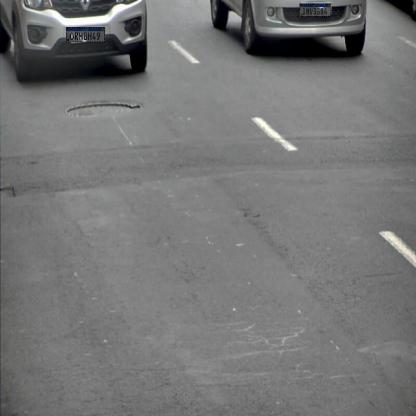PlacaM: (66, 27, 105, 42), (300, 4, 330, 16)
